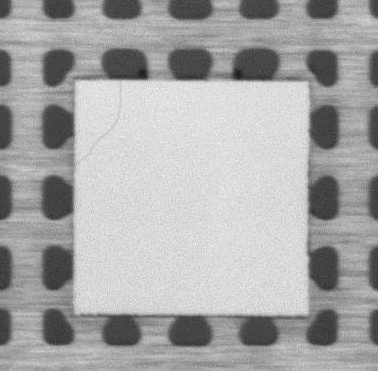DIE_CRACK: (79, 86, 122, 163)
